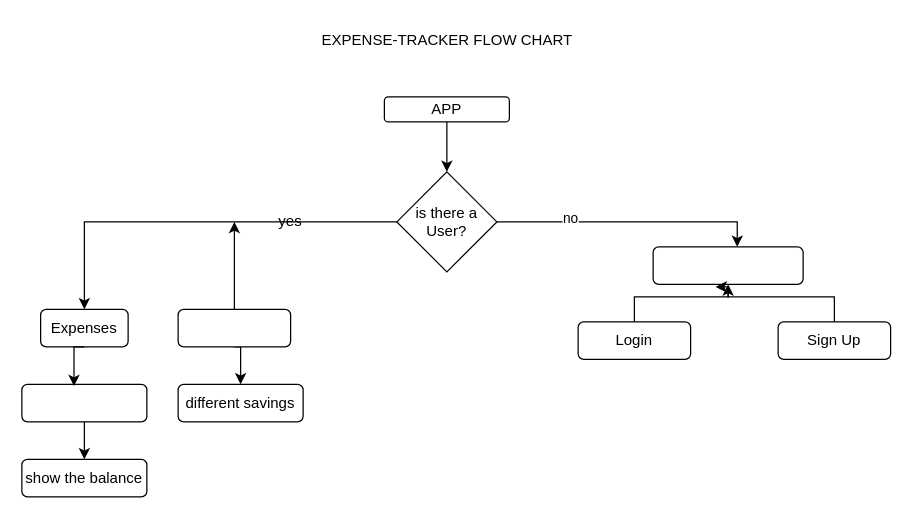
The diagram is 913 pixels wide and 519 high, and some of its shapes have lost their labels. Here are the shapes that lost their labels. From the top down, the centre of each, then its label:
point (727, 265): Auth Page
point (234, 327): Savings
point (84, 402): list of expenses
